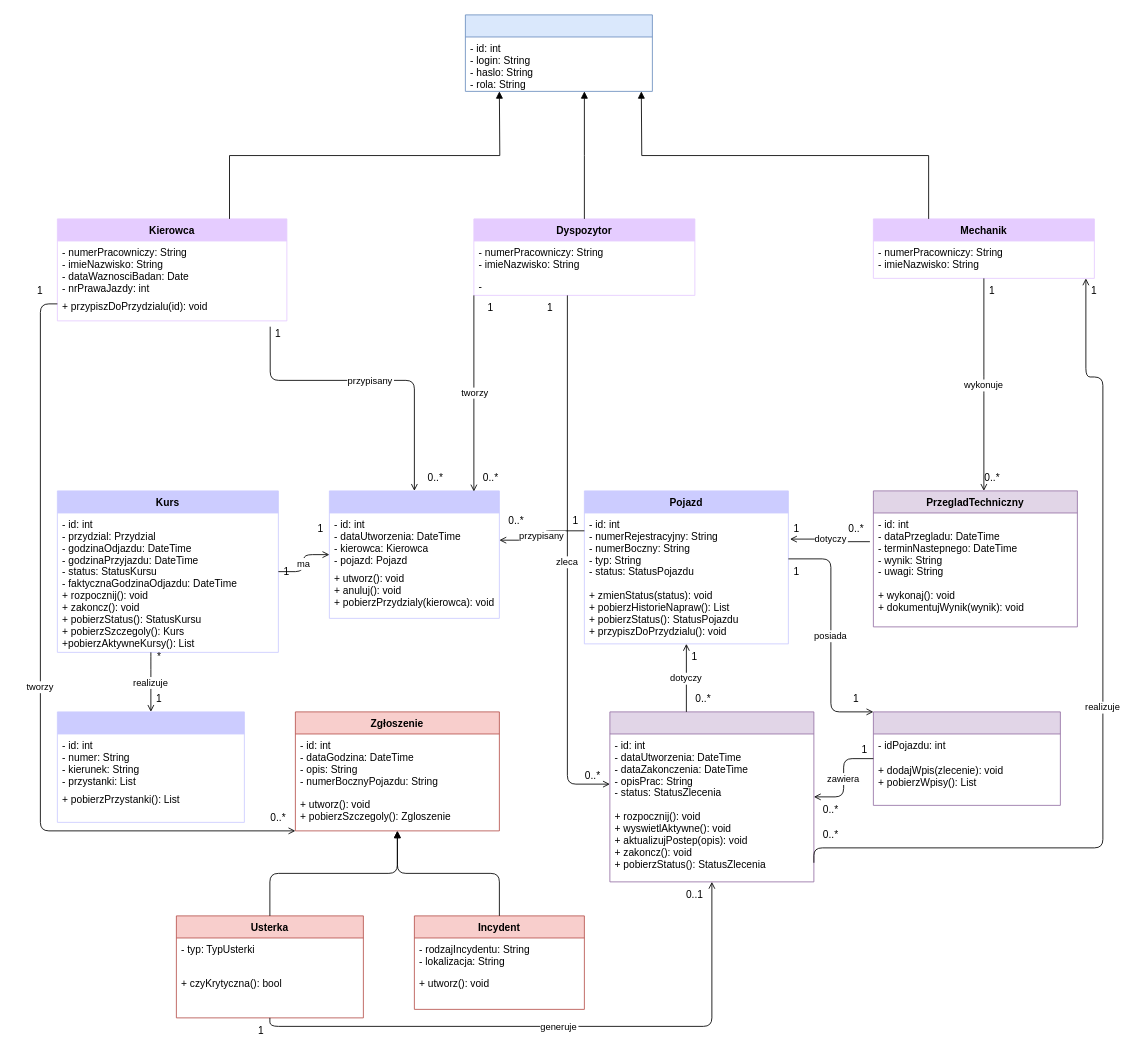
Image size: 1135x1058. Some labels were removed from this diagram. The box of each missing label's shape, as (x1, y1, x2, y2) in pixels:
HistoriaNapraw: (873, 711, 1060, 805)
Przydział: (329, 490, 499, 618)
Trasa: (57, 711, 244, 822)
Uźytkownik: (465, 14, 652, 91)
ZlecenieNaprawy: (609, 711, 814, 882)
